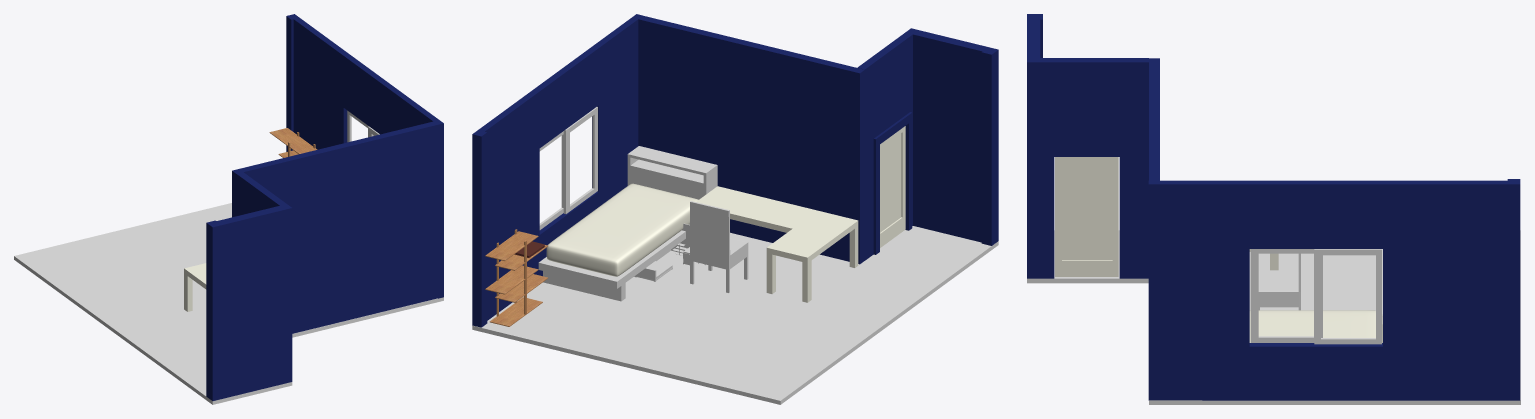
The model's file is kamar.gltf.
3 renders of one model, left to right at view 1: azimuth 30°, elevation 25°; view 2: azimuth 150°, elevation 25°; view 3: azimuth 270°, elevation 25°, orthographic. The views are drawn at different scales.
Visible parts, largest first — view 1: Tembok 2, Lantai, Tembok 3, Tembok 1, lemari kecil.002, Meja; view 2: Lantai, Tembok 2, Tembok 3, Tembok 1, Busa Kasur, Meja, Kasur, lemari kecil.002, kursi.002, Pintu, Jendela 2, Jendela 1; view 3: Tembok 1, Tembok 3, Pintu, Lantai, Busa Kasur, Jendela 1, Jendela 2, kursi.002, Tembok 2.
Part boxes in pixels (x1=…): Tembok 2: x1=232, y1=121, x2=437, y2=333; Lantai: x1=14, y1=203, x2=443, y2=404; Tembok 3: x1=206, y1=172, x2=292, y2=400; Tembok 1: x1=286, y1=14, x2=443, y2=298; lemari kecil.002: x1=269, y1=128, x2=317, y2=157; Meja: x1=184, y1=263, x2=206, y2=311; Lantai: x1=472, y1=226, x2=998, y2=404; Tembok 2: x1=638, y1=15, x2=864, y2=264; Tembok 3: x1=857, y1=28, x2=998, y2=260; Tembok 1: x1=472, y1=14, x2=642, y2=327; Busa Kasur: x1=546, y1=183, x2=698, y2=276; Meja: x1=696, y1=186, x2=858, y2=302; Kasur: x1=538, y1=146, x2=717, y2=301; lemari kecil.002: x1=485, y1=229, x2=547, y2=326; kursi.002: x1=690, y1=201, x2=748, y2=292; Pintu: x1=880, y1=126, x2=905, y2=247; Jendela 2: x1=563, y1=107, x2=597, y2=213; Jendela 1: x1=539, y1=131, x2=563, y2=229; Tembok 1: x1=1148, y1=179, x2=1520, y2=400; Tembok 3: x1=1027, y1=14, x2=1148, y2=278; Pintu: x1=1055, y1=157, x2=1118, y2=276; Lantai: x1=1027, y1=230, x2=1520, y2=404; Busa Kasur: x1=1249, y1=310, x2=1382, y2=342; Jendela 1: x1=1314, y1=249, x2=1381, y2=344; Jendela 2: x1=1250, y1=249, x2=1322, y2=342; kursi.002: x1=1258, y1=253, x2=1300, y2=310; Tembok 2: x1=1149, y1=58, x2=1159, y2=180.
Bounding box in the file's own units: 38.94 × 23.66 × 47.76.
11 materials, 1 textured.
